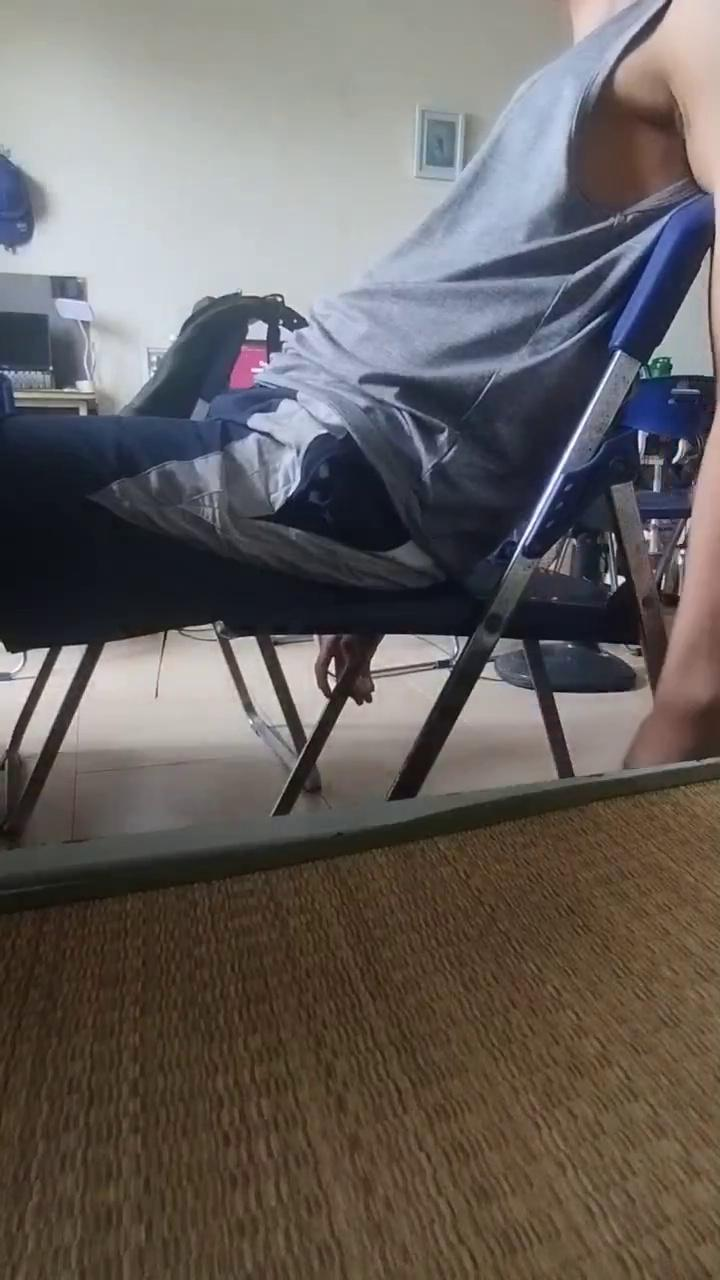BadPosture: (0, 0, 719, 647), (627, 435, 719, 764)
